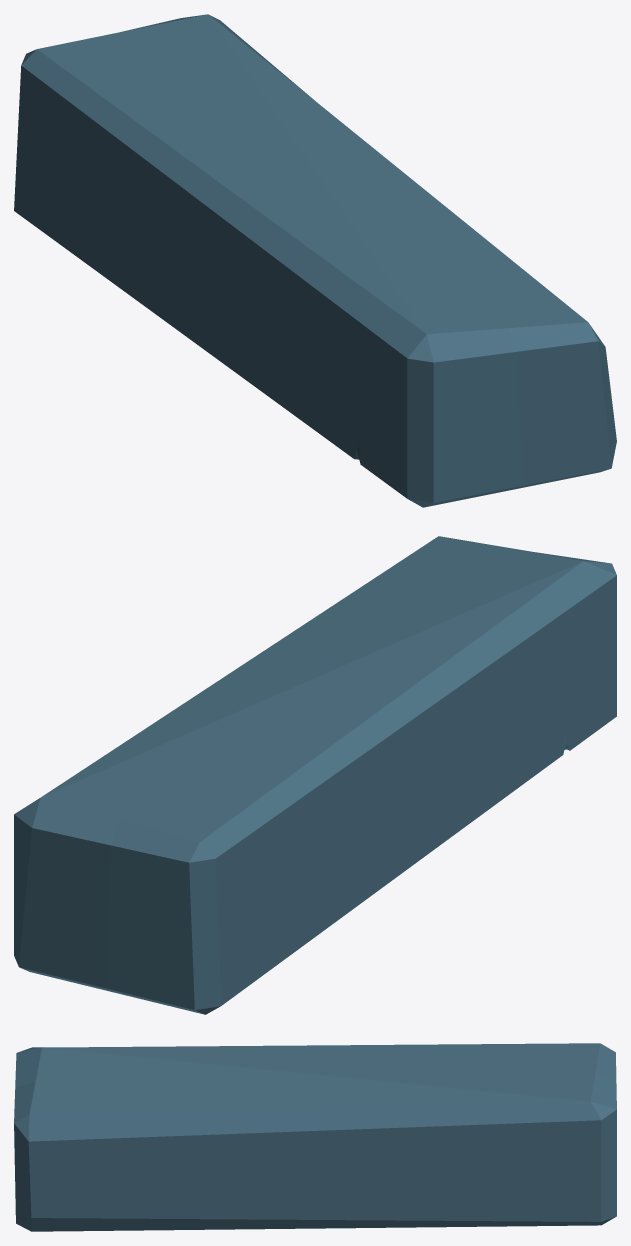
The model's file is long-rock-block.fbx.
3 renders of one model, top to bottom at view 1: azimuth 30°, elevation 25°; view 2: azimuth 150°, elevation 25°; view 3: azimuth 270°, elevation 25°, orthographic. The views are drawn at different scales.
Visible parts, largest first — view 1: stone-brick04.005; view 2: stone-brick04.005; view 3: stone-brick04.005.
Part boxes in pixels (<box>): stone-brick04.005: <box>14,14,616,507</box>; stone-brick04.005: <box>14,536,616,1014</box>; stone-brick04.005: <box>14,1043,616,1231</box>.
Size of the model in its own units: 147 by 119 by 508.
